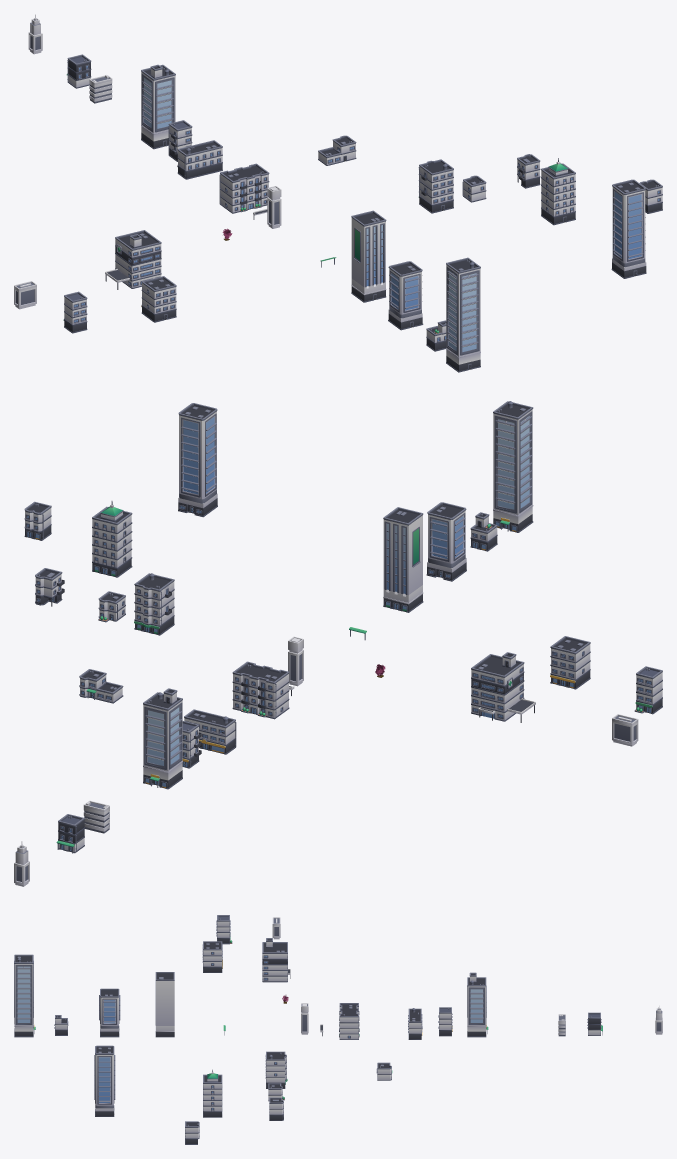
Rendered from map.glb.
The picture shows the model from 3 angles, top to bottom: view 1: azimuth 30°, elevation 25°; view 2: azimuth 150°, elevation 25°; view 3: azimuth 270°, elevation 25°; orthographic projection. The views are drawn at different scales.
Parts seen in each view (by area): view 1: building-skyscraper-d, building-skyscraper-b, building-skyscraper-e, building-skyscraper-c, building-n, building-skyscraper-a, building-j, building-m, building-l, building-k, building-i, building-f (+10 smaller); view 2: building-skyscraper-d, building-skyscraper-b, building-skyscraper-e, building-skyscraper-c, building-n, building-skyscraper-a, building-j, building-m, building-l, building-i, building-k, building-f (+10 smaller); view 3: building-skyscraper-d, building-skyscraper-b, building-skyscraper-e, building-skyscraper-c, building-n, building-skyscraper-a, building-m, building-j, building-l, building-i, building-k, building-f (+2 smaller).
Part boxes in pixels (box(x1,y1,x2,y2)): building-skyscraper-d: box(446, 257, 480, 372); building-skyscraper-b: box(611, 179, 646, 278); building-skyscraper-e: box(351, 210, 386, 302); building-skyscraper-c: box(141, 64, 175, 149); building-n: box(105, 230, 161, 289); building-skyscraper-a: box(388, 261, 423, 330); building-j: box(219, 163, 269, 213); building-m: box(541, 158, 575, 225); building-l: box(418, 159, 453, 213); building-k: box(177, 140, 222, 179); building-i: box(141, 276, 176, 322); building-f: box(63, 291, 87, 333); building-skyscraper-d: box(493, 401, 533, 532); building-skyscraper-b: box(178, 403, 217, 517); building-skyscraper-e: box(383, 507, 423, 612); building-skyscraper-c: box(143, 688, 182, 789); building-n: box(471, 652, 535, 722); building-skyscraper-a: box(426, 502, 466, 581); building-j: box(232, 661, 289, 719); building-m: box(92, 501, 132, 577); building-l: box(134, 573, 174, 635); building-i: box(550, 636, 590, 689); building-k: box(184, 709, 236, 754); building-f: box(634, 666, 662, 714); building-skyscraper-d: box(14, 954, 35, 1037); building-skyscraper-b: box(94, 1045, 115, 1116); building-skyscraper-e: box(155, 972, 174, 1037); building-skyscraper-c: box(467, 972, 488, 1037); building-n: box(262, 938, 290, 982); building-skyscraper-a: box(99, 988, 120, 1037); building-m: box(203, 1069, 222, 1117); building-j: box(339, 1003, 359, 1039); building-l: box(265, 1051, 287, 1088); building-i: box(202, 941, 222, 972); building-k: box(408, 1008, 422, 1039); building-f: box(216, 915, 232, 944).
Size of what is drawn, in the model's own units: 1196 by 203 by 1547.
Materials: 28 (26 with a texture image).
